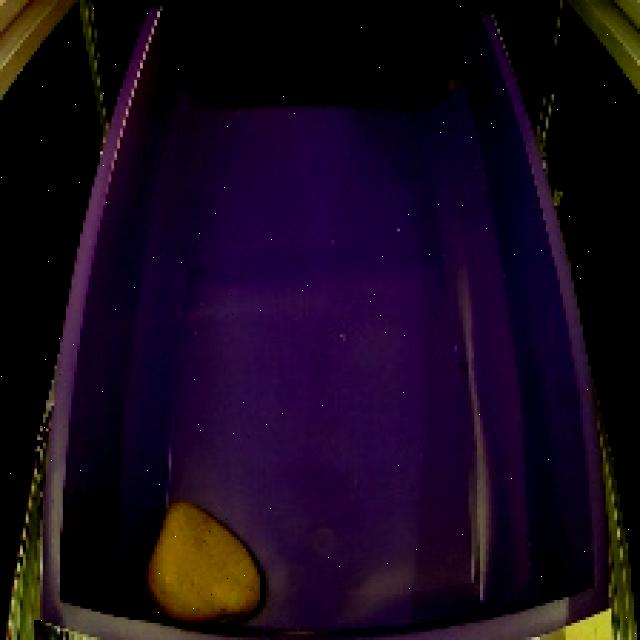cobbles: (138, 488, 271, 630)
